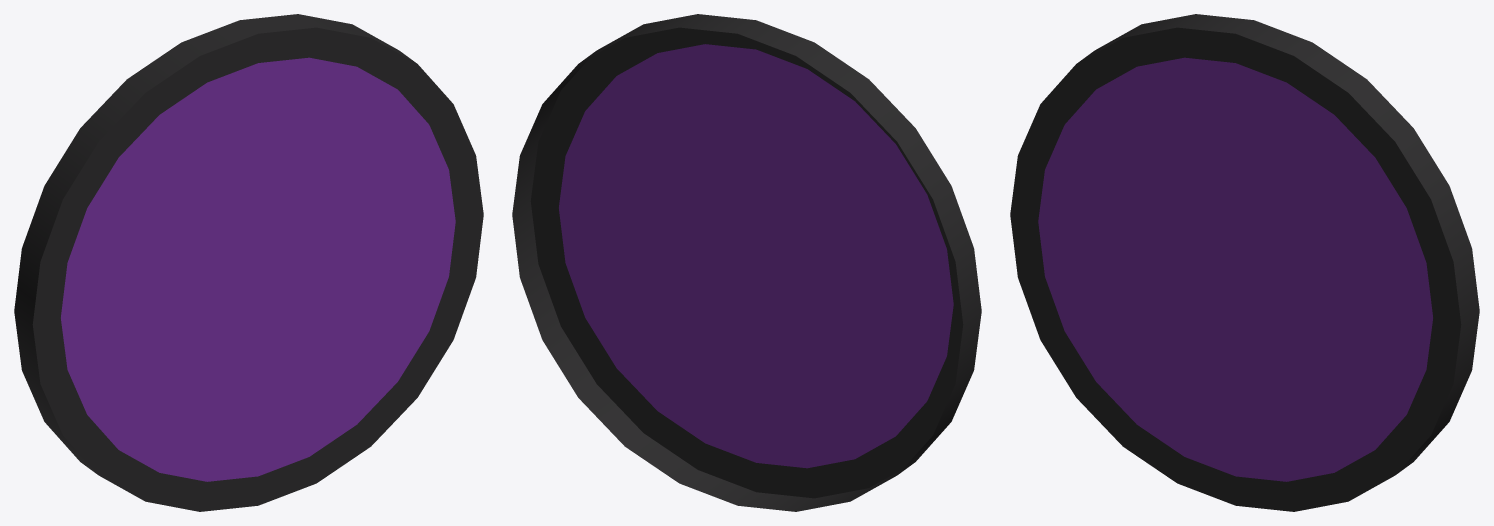
Rendered from Dracula_Glasses.fbx.
3 views of the same model, side by side, from view 1: azimuth 30°, elevation 25°; view 2: azimuth 150°, elevation 25°; view 3: azimuth 330°, elevation 25° (orthographic).
Visible parts, largest first — view 1: Dracula_Glasses; view 2: Dracula_Glasses; view 3: Dracula_Glasses.
Boxes of the visible parts, x1=… form: Dracula_Glasses: x1=14, y1=14, x2=483, y2=511; Dracula_Glasses: x1=512, y1=14, x2=981, y2=511; Dracula_Glasses: x1=1010, y1=14, x2=1479, y2=511.
Bounding box in the file's own units: 0.1519 × 0.1519 × 0.0108.
Materials: 2 (2 with a texture image).
